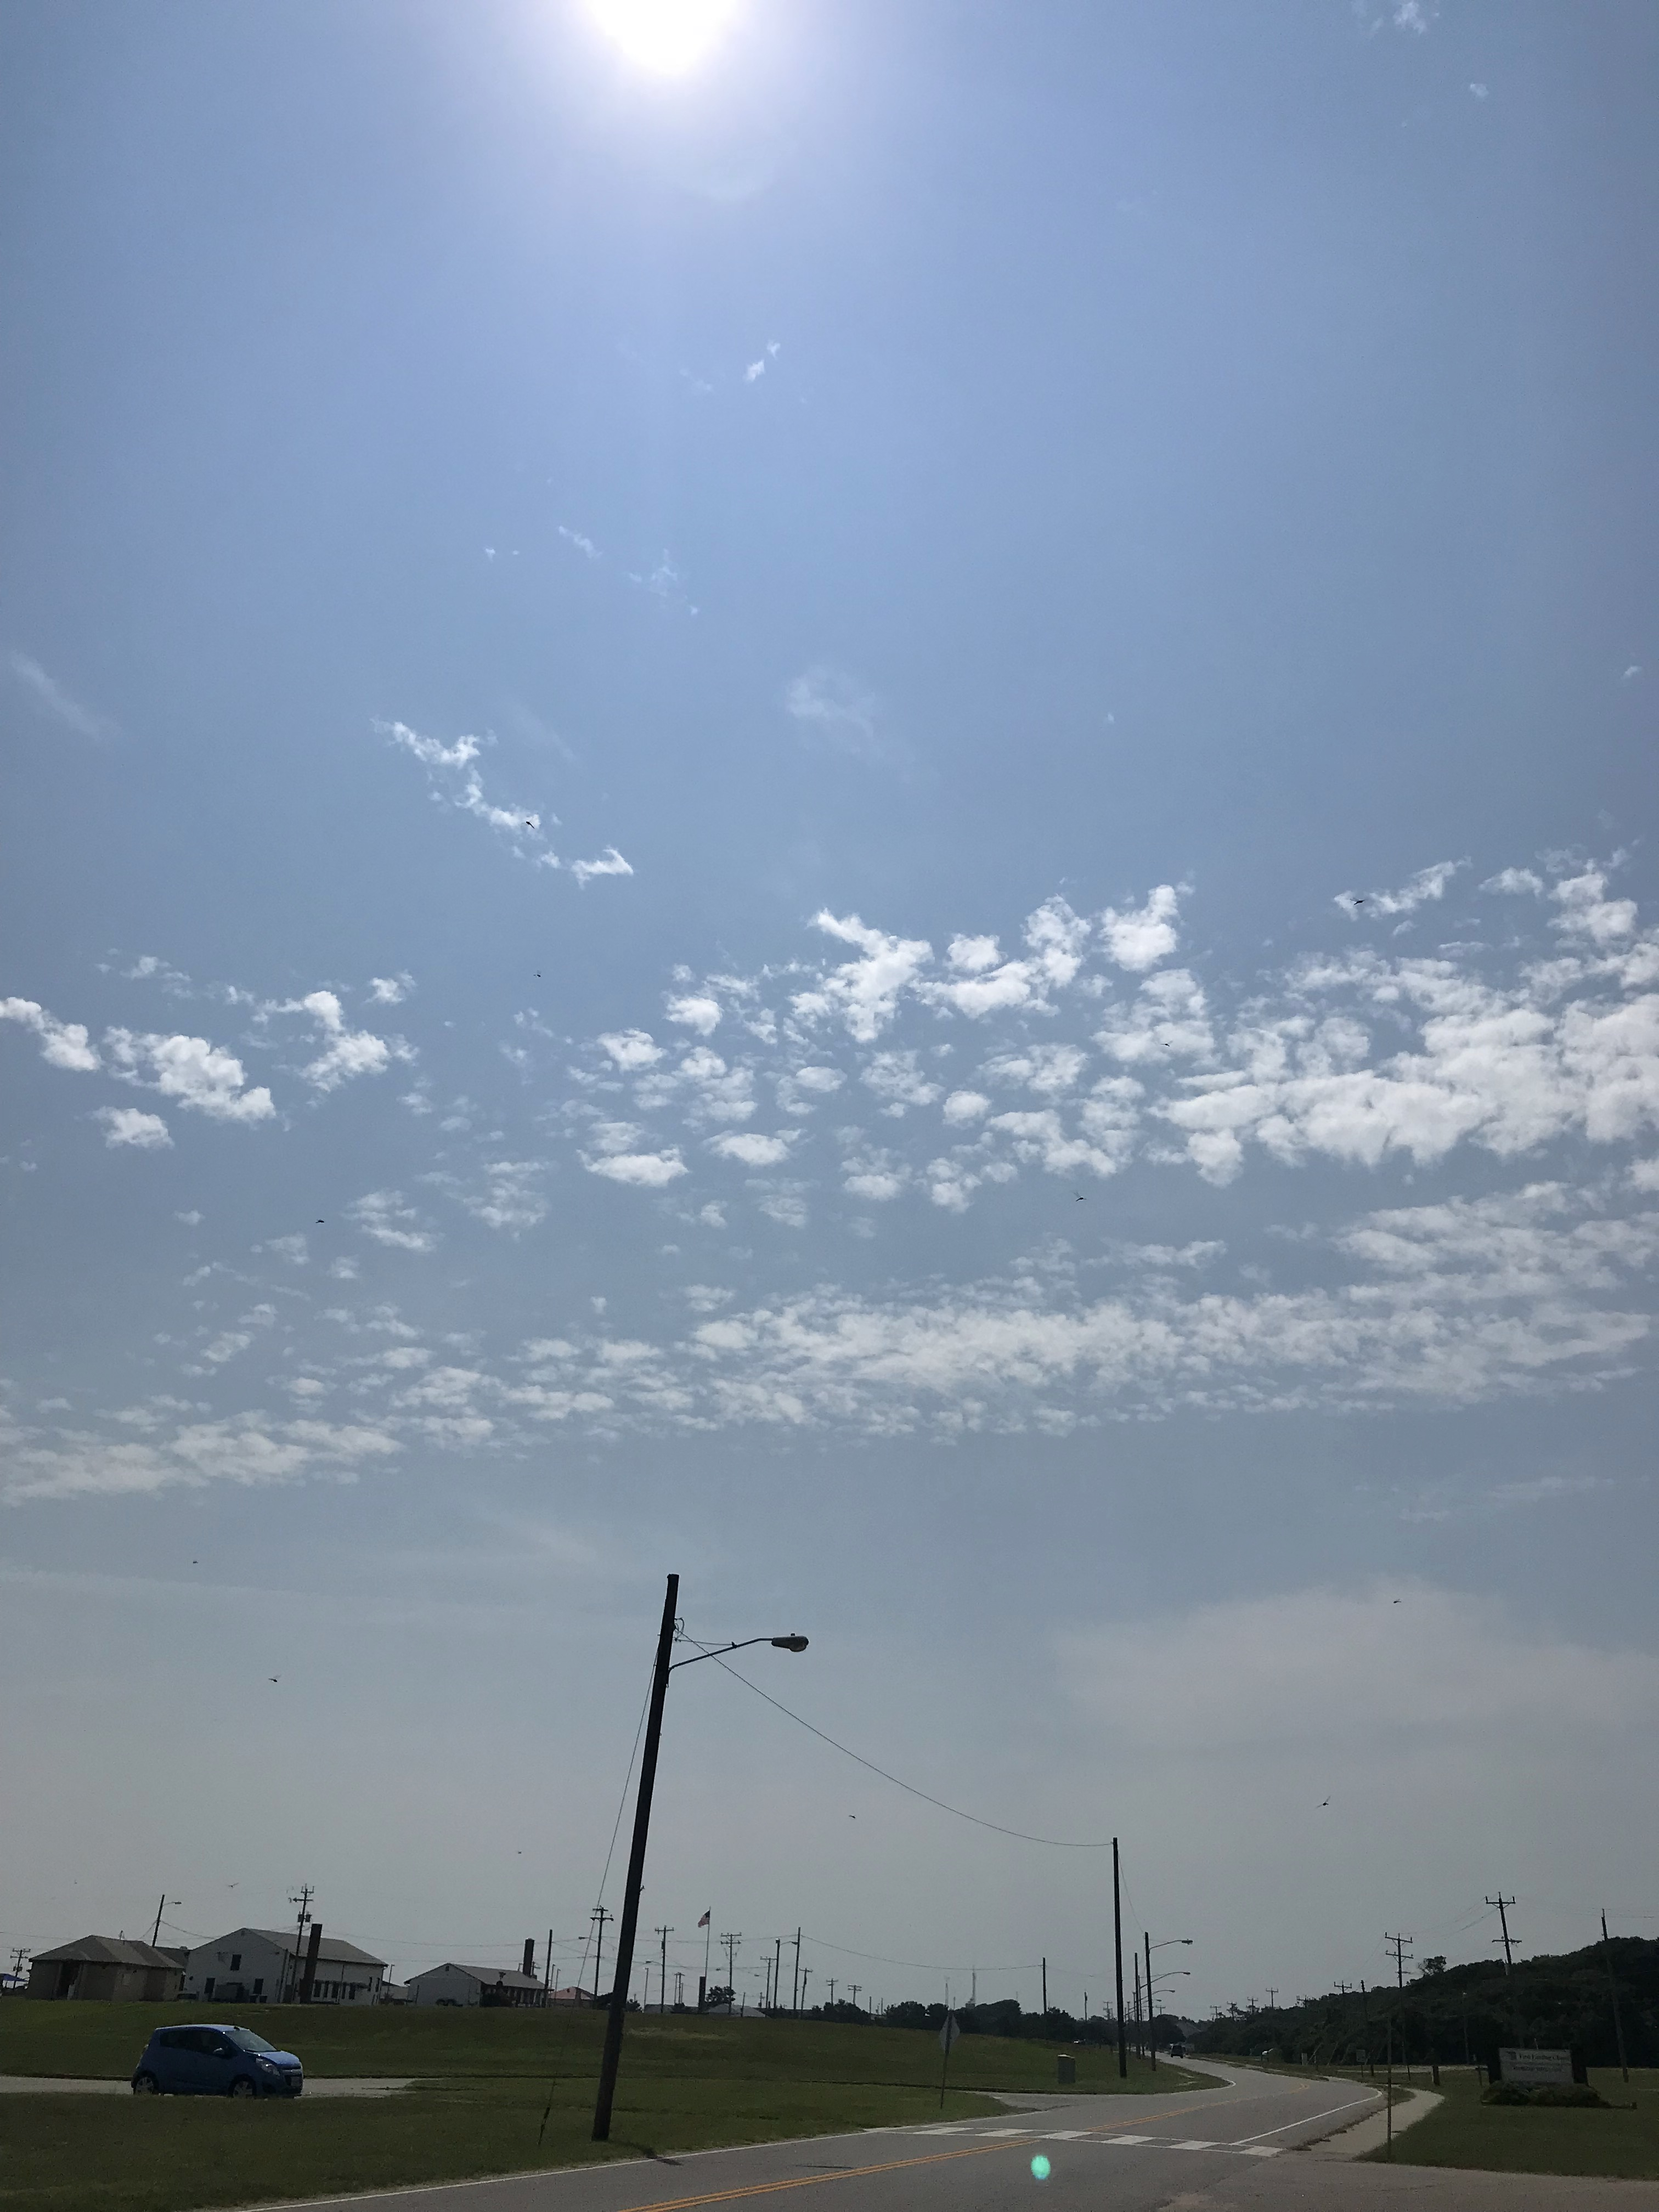flare: (1028, 2153, 1053, 2182)
